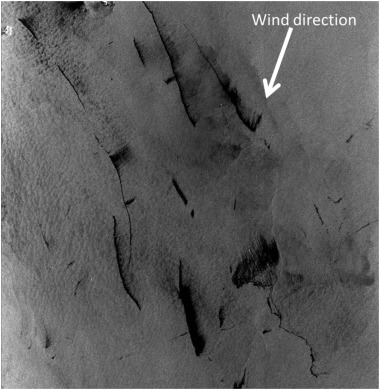anomaly: (161, 227, 288, 368)
